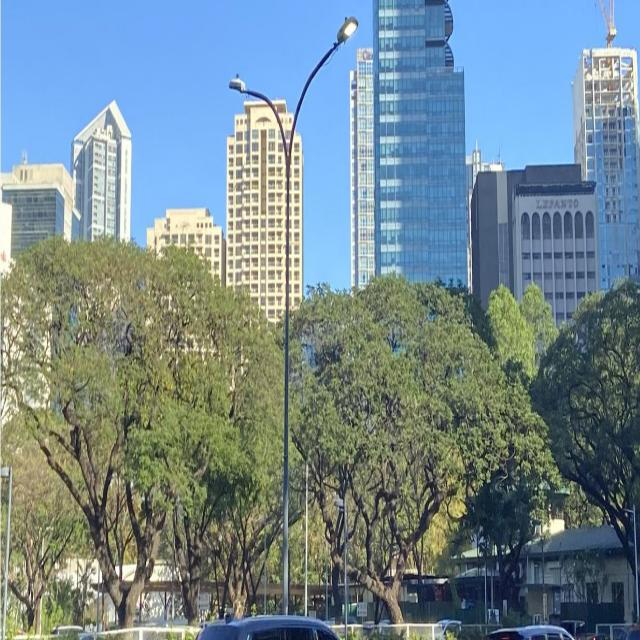Acacia: (304, 255, 640, 604), (5, 216, 275, 610)
